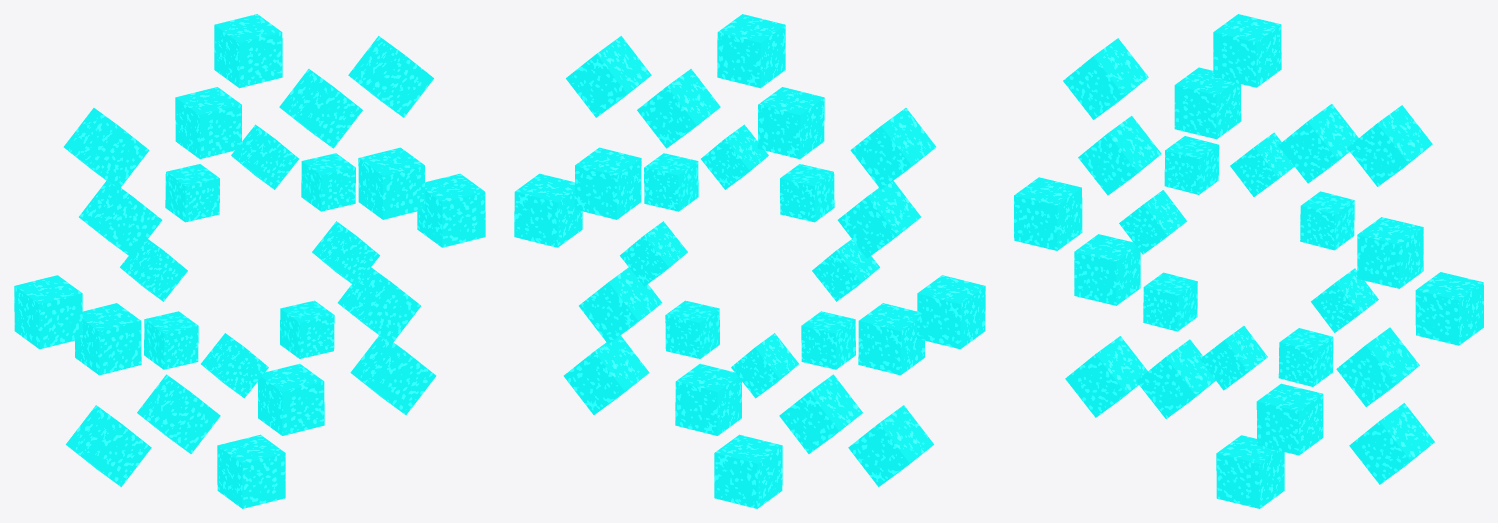
The model's file is particle_model.43f70542.glb.
The picture shows the model from 3 angles, left to right: view 1: azimuth 30°, elevation 25°; view 2: azimuth 150°, elevation 25°; view 3: azimuth 330°, elevation 25°; orthographic projection.
Parts seen in each view (by area): view 1: particle.016, particle.020, particle.022, particle.011, particle.009, particle.018, particle.013, particle.015, particle.023, particle.017, particle.021, particle.019 (+12 smaller); view 2: particle.016, particle.020, particle.022, particle.011, particle.009, particle.018, particle.013, particle.015, particle.023, particle.017, particle.021, particle.019 (+12 smaller); view 3: particle.016, particle.018, particle.022, particle.020, particle.013, particle.011, particle.015, particle.009, particle.019, particle.023, particle.017, particle.021 (+12 smaller).
Part boxes in pixels (box(x1,y1,x2,y2)): particle.016: box(214, 14, 282, 88); particle.020: box(217, 434, 285, 508); particle.022: box(14, 275, 82, 349); particle.011: box(358, 147, 425, 219); particle.009: box(175, 87, 242, 159); particle.018: box(417, 173, 485, 247); particle.013: box(258, 363, 324, 435); particle.015: box(75, 303, 141, 375); particle.023: box(63, 108, 149, 189); particle.017: box(348, 36, 433, 117); particle.021: box(66, 405, 151, 486); particle.019: box(350, 335, 436, 414); particle.016: box(717, 14, 785, 88); particle.020: box(714, 434, 782, 508); particle.022: box(917, 275, 985, 349); particle.011: box(574, 147, 641, 219); particle.009: box(757, 87, 824, 159); particle.018: box(514, 173, 582, 247); particle.013: box(675, 363, 741, 435); particle.015: box(858, 303, 924, 375); particle.023: box(850, 108, 936, 189); particle.017: box(566, 36, 651, 117); particle.021: box(848, 405, 933, 486); particle.019: box(563, 335, 649, 414); particle.016: box(1213, 14, 1281, 87); particle.018: box(1415, 272, 1483, 345); particle.022: box(1014, 177, 1082, 250); particle.020: box(1216, 435, 1284, 508); particle.013: box(1256, 383, 1323, 455); particle.011: box(1357, 217, 1423, 288); particle.015: box(1074, 234, 1140, 305); particle.009: box(1174, 67, 1241, 139); particle.019: box(1349, 403, 1434, 484); particle.023: box(1063, 38, 1148, 119); particle.017: box(1347, 105, 1432, 186); particle.021: box(1065, 336, 1147, 417).
Bounding box in the file's own units: 20.24 × 20.24 × 1.96.
Materials: 1 (1 with a texture image).
